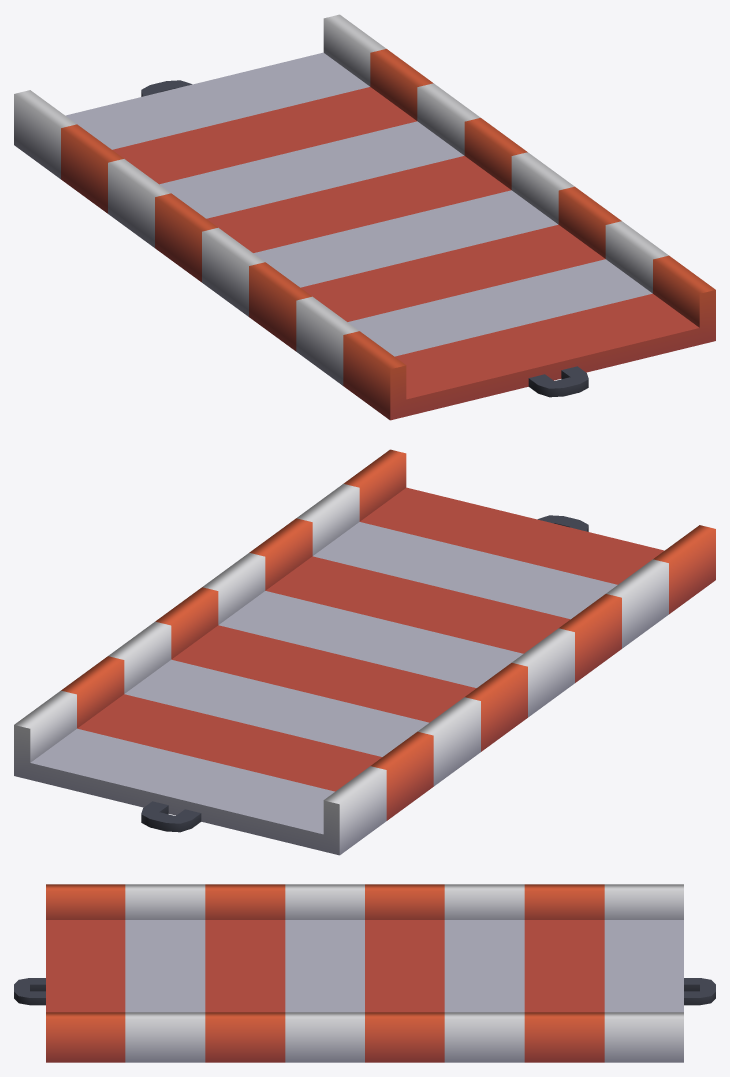
Rendered from track-striped-wide-straight.glb.
The picture shows the model from 3 angles, top to bottom: view 1: azimuth 30°, elevation 25°; view 2: azimuth 150°, elevation 25°; view 3: azimuth 270°, elevation 25°; orthographic projection. The views are drawn at different scales.
Parts seen in each view (by area): view 1: track-striped-wide-straight; view 2: track-striped-wide-straight; view 3: track-striped-wide-straight.
Part boxes in pixels (x1,y1,x2,y2): track-striped-wide-straight: [14, 14, 715, 420]; track-striped-wide-straight: [14, 449, 715, 855]; track-striped-wide-straight: [14, 884, 715, 1062].
Size of the model in its own units: 2 by 0.3 by 4.4.
